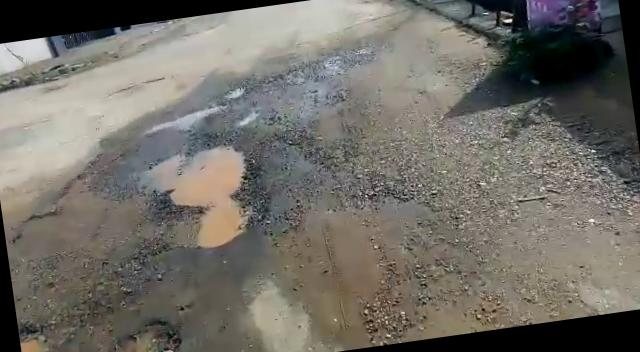pothole: (136, 140, 259, 258), (102, 314, 187, 352)
